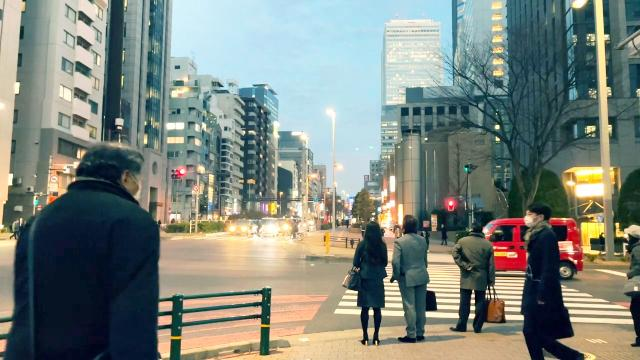berdiri: (446, 226, 504, 334), (394, 212, 434, 346), (345, 218, 387, 344)
berjalan: (8, 132, 170, 360), (513, 198, 589, 360), (622, 224, 640, 348)
